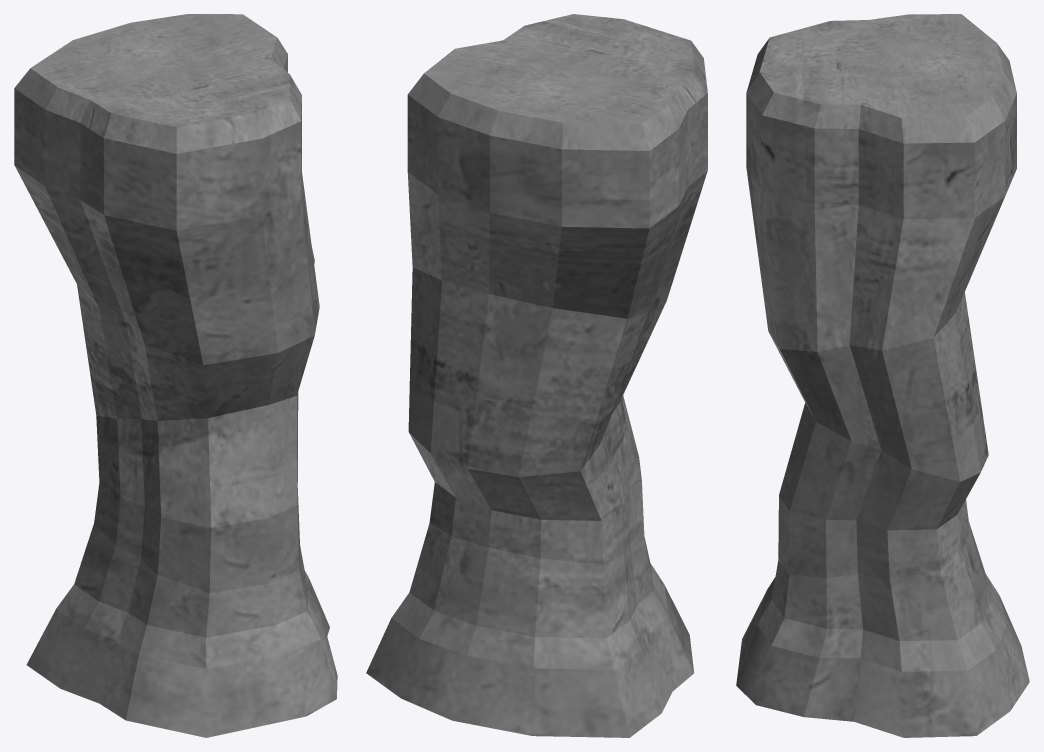
The model's file is Large Long Rock.fbx.
3 renders of one model, left to right at view 1: azimuth 30°, elevation 25°; view 2: azimuth 150°, elevation 25°; view 3: azimuth 270°, elevation 25°, orthographic. The views are drawn at different scales.
Visible parts, largest first — view 1: Large_Long_Rock; view 2: Large_Long_Rock; view 3: Large_Long_Rock.
Part boxes in pixels (<box>): Large_Long_Rock: <box>14,14,337,737</box>; Large_Long_Rock: <box>366,14,707,737</box>; Large_Long_Rock: <box>736,14,1029,737</box>.
Size of what is drawn, in the model's own units: 1831 by 3745 by 1677.
